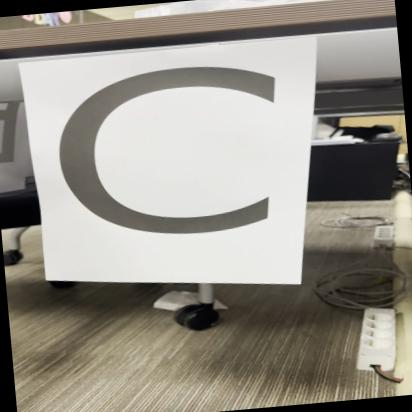seat: (24, 42, 322, 304)
